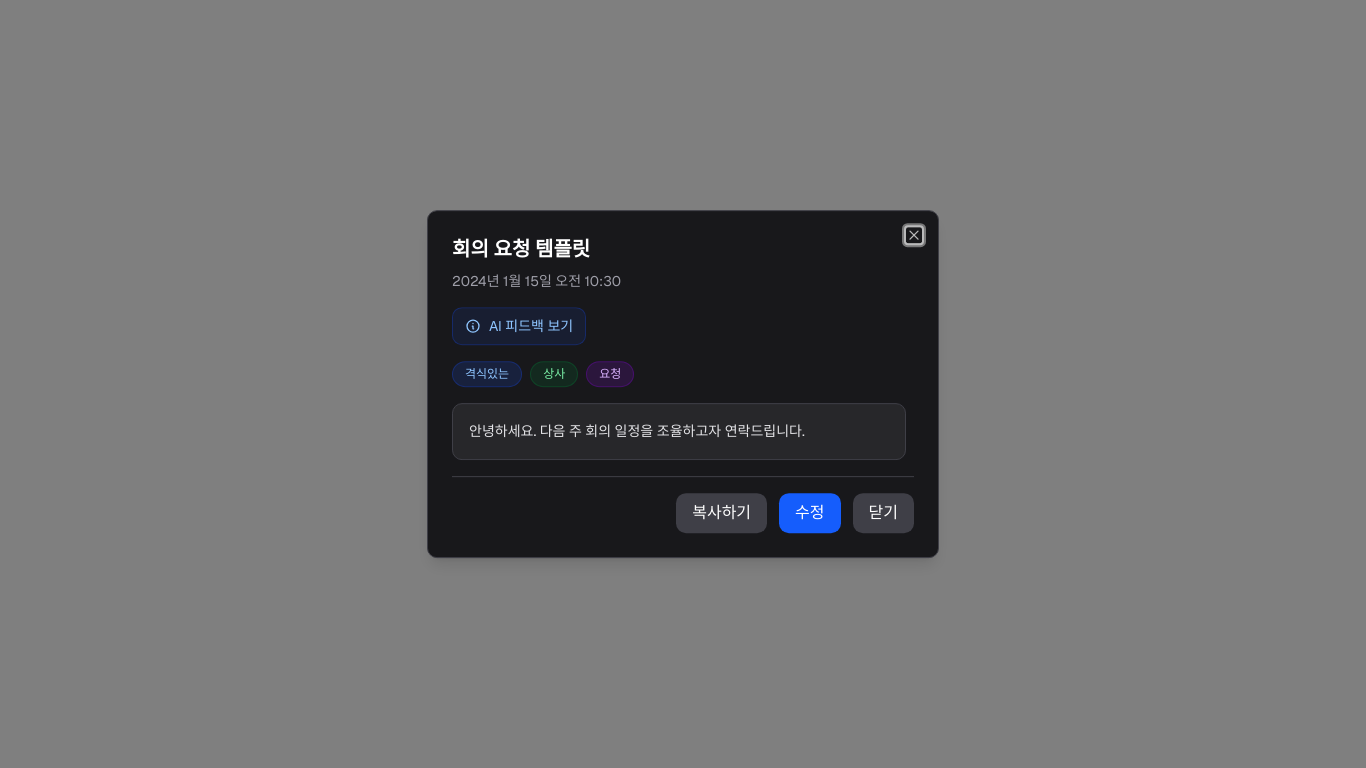
Test case: TemplateDetailModal › AI 피드백 › 피드백 패널에서 닫기 버튼 클릭 시 패널이 닫힌다
Check: the text "AI 피드백 보기" is shown, box left=489, top=316, right=573, bottom=336
Step 1. Click the button "AI 피드백 보기" → x=519, y=326, box left=452, top=307, right=586, bottom=345
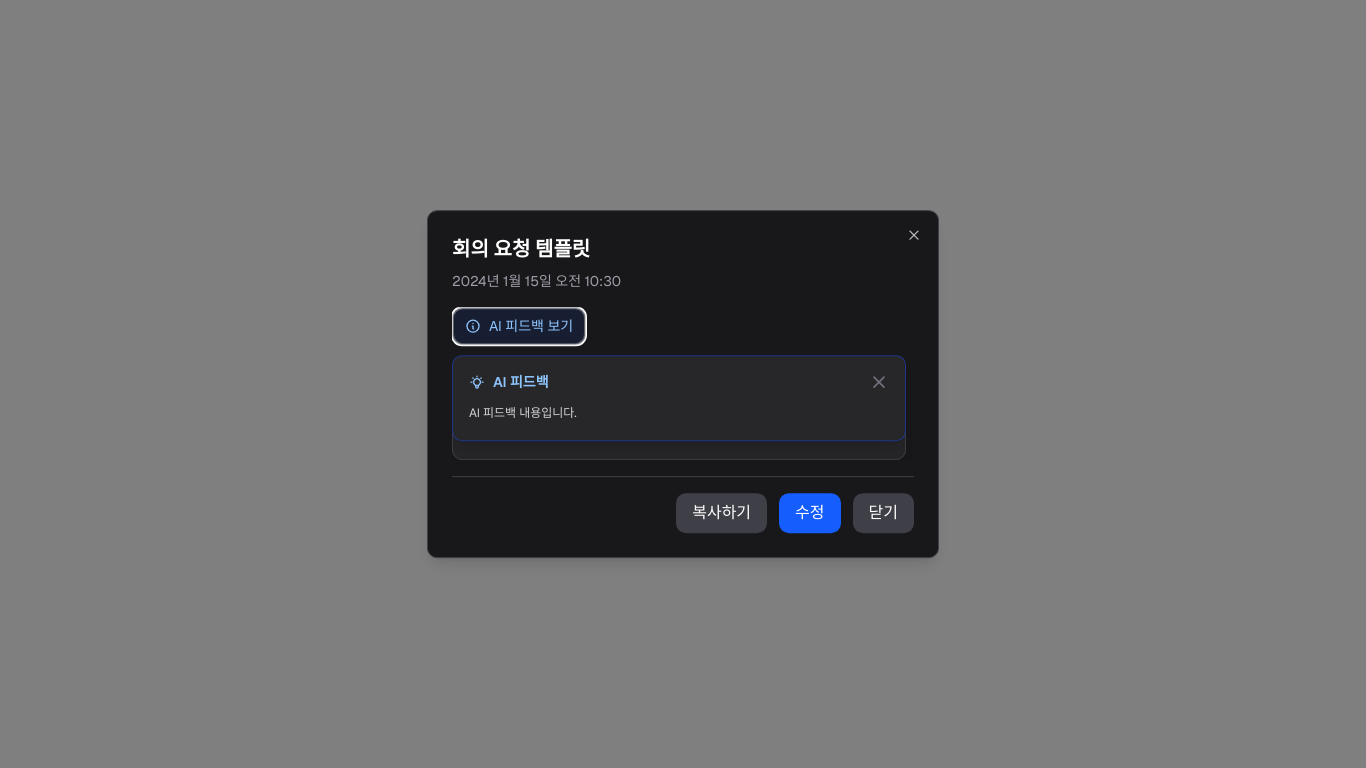
Check: the text "AI 피드백 내용입니다." is shown, box left=469, top=405, right=577, bottom=421
Step 2. Click the button without text in the row of "상사" → x=879, y=382, box left=869, top=372, right=889, bottom=392
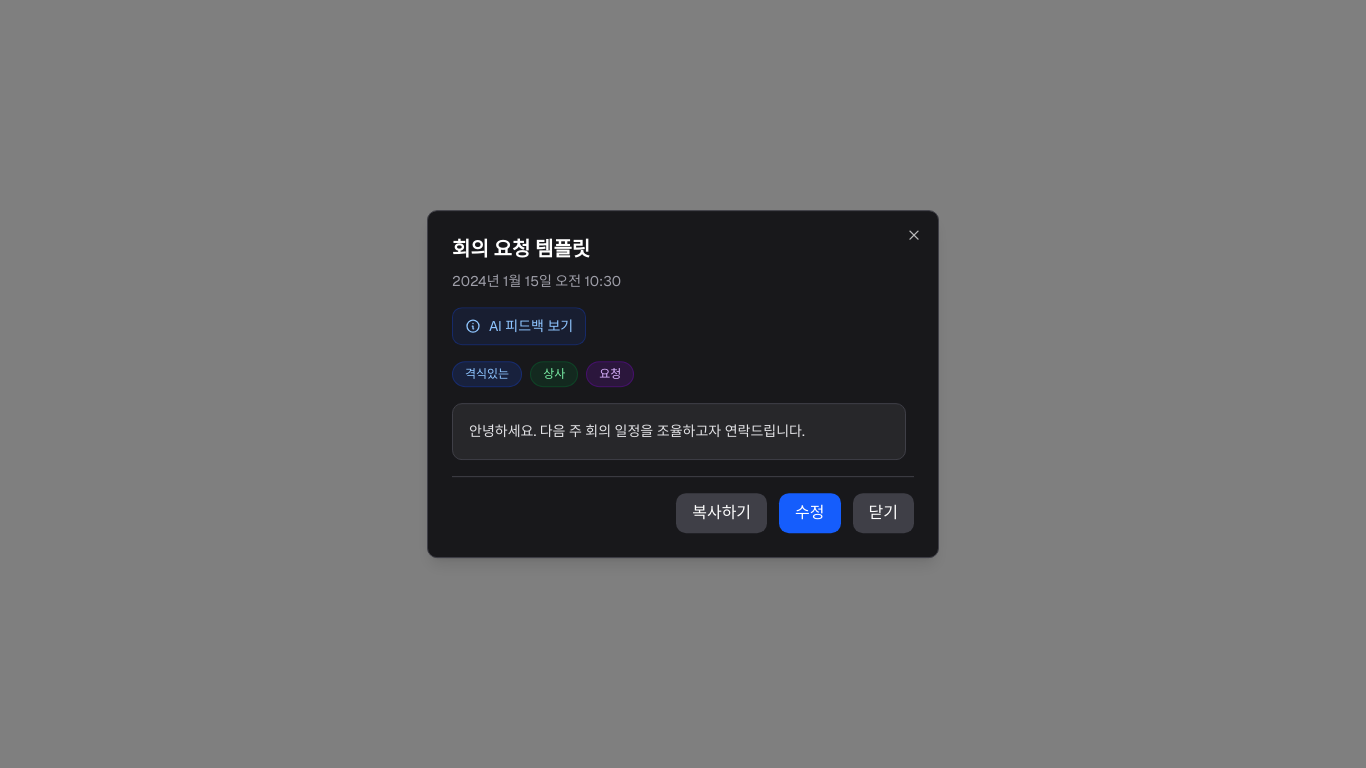
Check: the text "AI 피드백 내용입니다." is gone
